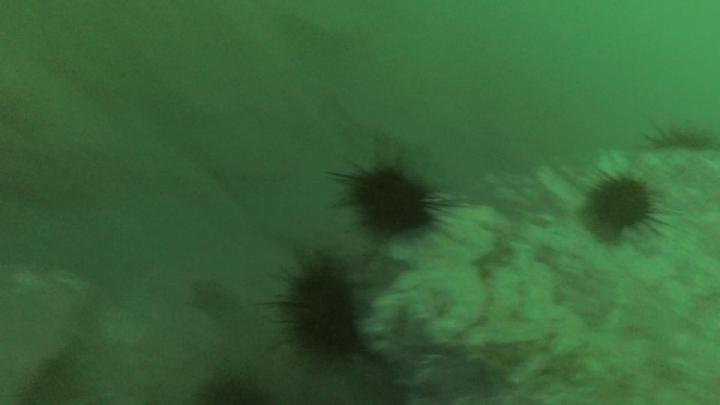echinus: (282, 270, 359, 364), (352, 168, 431, 233), (588, 174, 651, 231)
